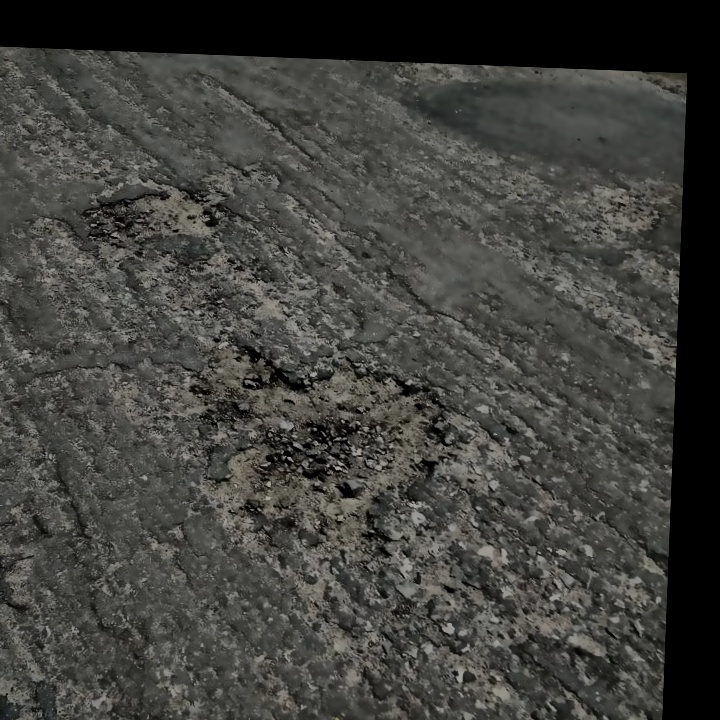pothole: (191, 337, 449, 555), (75, 175, 223, 249)
